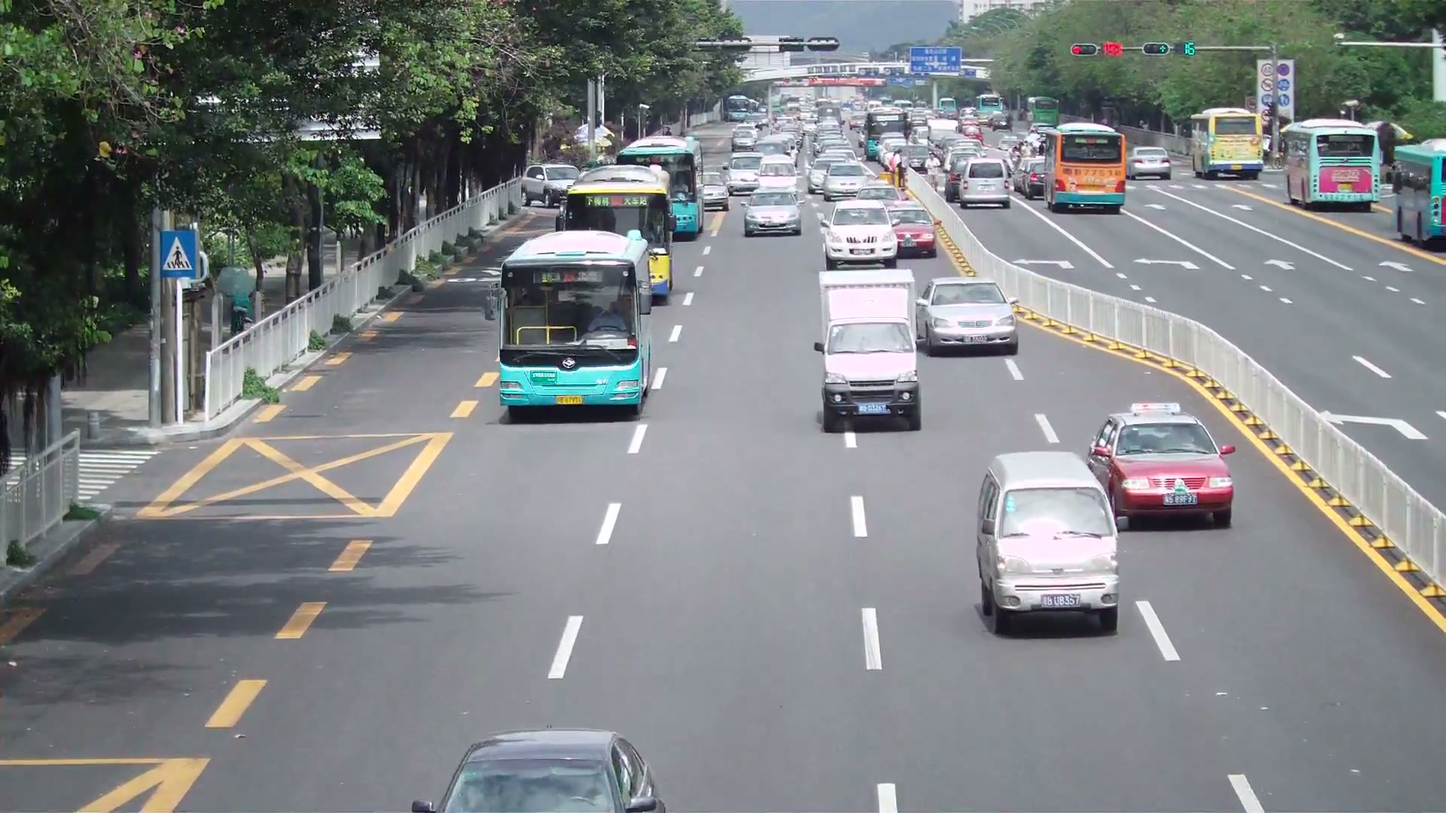bus: (494, 230, 652, 417), (557, 167, 671, 307), (1281, 118, 1382, 210), (617, 134, 703, 240), (1048, 122, 1129, 213), (1189, 106, 1265, 180)
car: (974, 449, 1122, 636), (414, 728, 664, 812), (1086, 411, 1238, 528), (816, 267, 923, 433), (916, 277, 1020, 356), (821, 202, 900, 268), (956, 155, 1013, 210), (886, 199, 939, 255), (742, 190, 802, 236), (1130, 146, 1174, 180)
truck: (815, 267, 923, 432), (1281, 117, 1381, 209), (1392, 138, 1445, 243), (1188, 107, 1264, 180), (1256, 57, 1298, 164)
